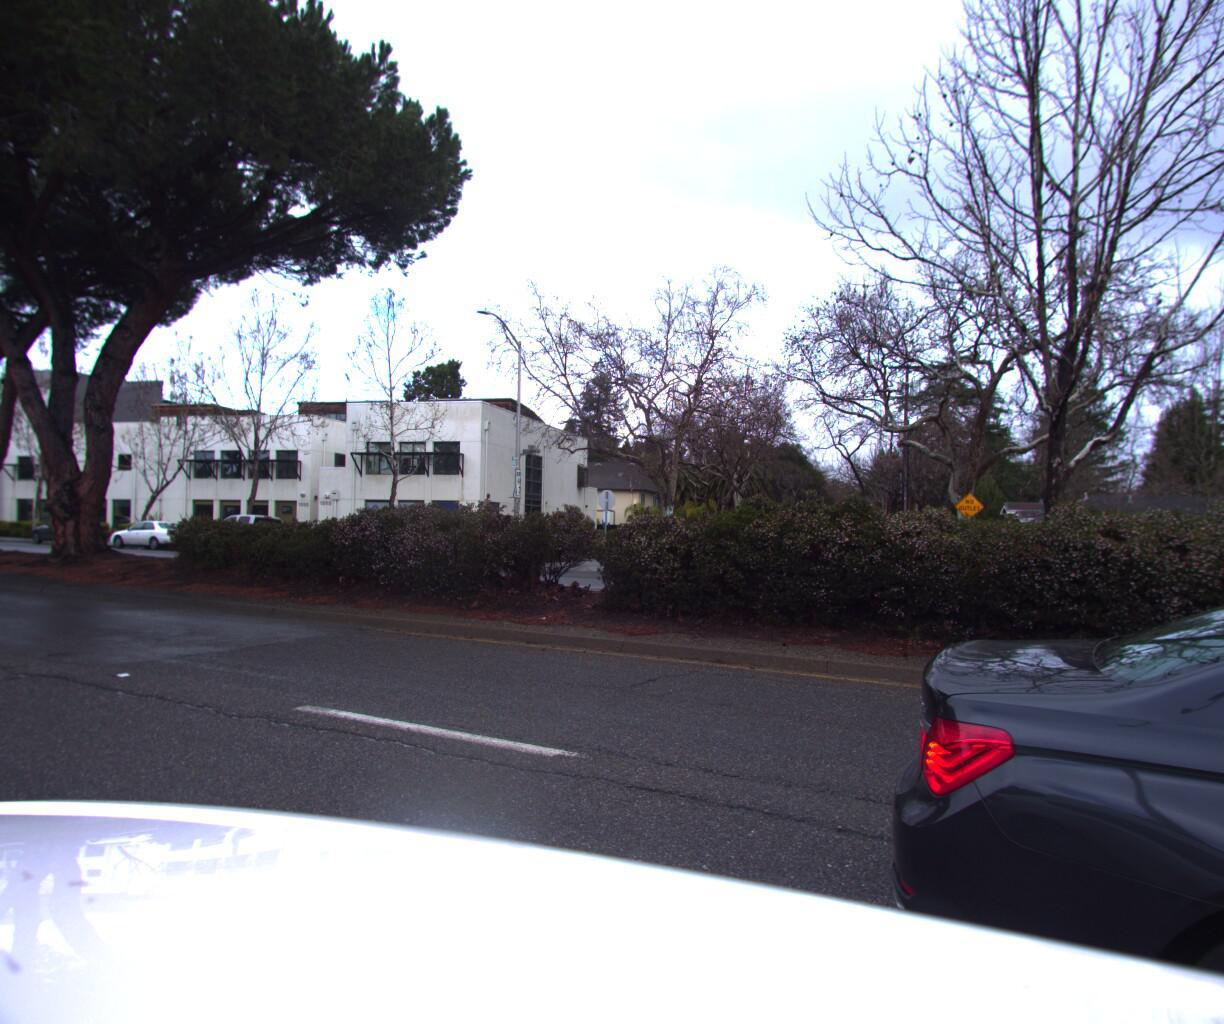car: (189, 513, 319, 562), (101, 518, 203, 554), (25, 513, 112, 549)
